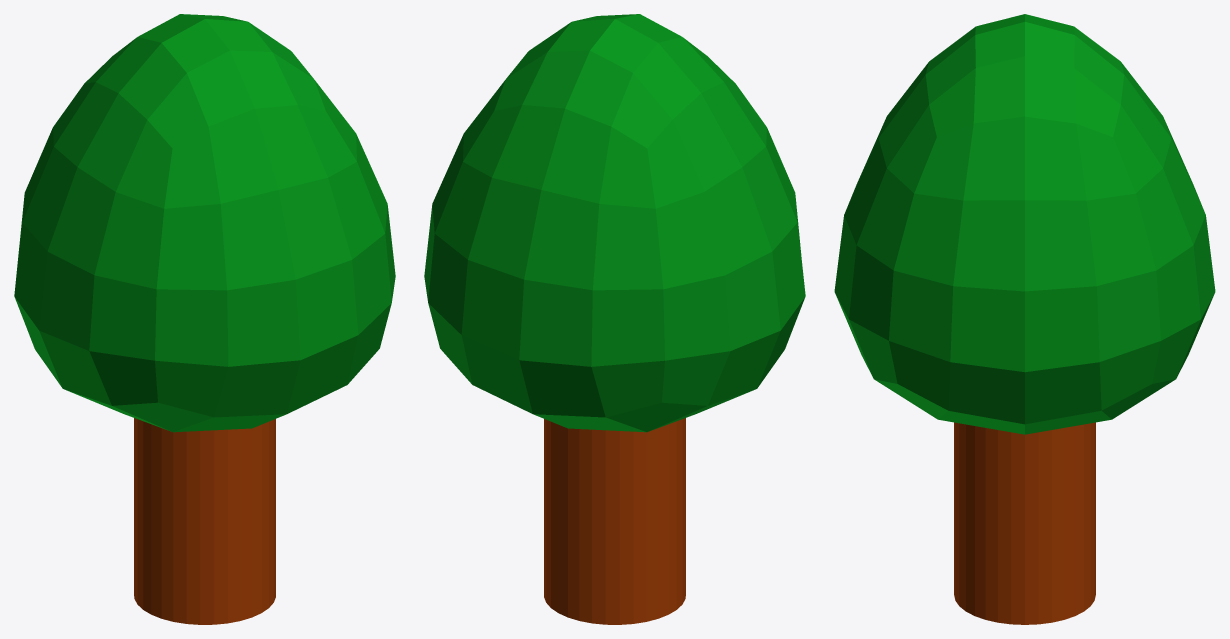
File: tree.fbx
The picture shows the model from 3 angles, left to right: view 1: azimuth 30°, elevation 25°; view 2: azimuth 150°, elevation 25°; view 3: azimuth 270°, elevation 25°; orthographic projection.
Visible parts, largest first — view 1: Cube, 柱体; view 2: Cube, 柱体; view 3: Cube, 柱体.
Boxes of the visible parts, bbox=[...] form: Cube: bbox=[14, 14, 395, 432]; 柱体: bbox=[134, 418, 275, 624]; Cube: bbox=[424, 14, 805, 432]; 柱体: bbox=[544, 418, 685, 624]; Cube: bbox=[834, 14, 1215, 434]; 柱体: bbox=[954, 422, 1095, 624].
Size of the model in its own units: 150 by 249 by 150.
